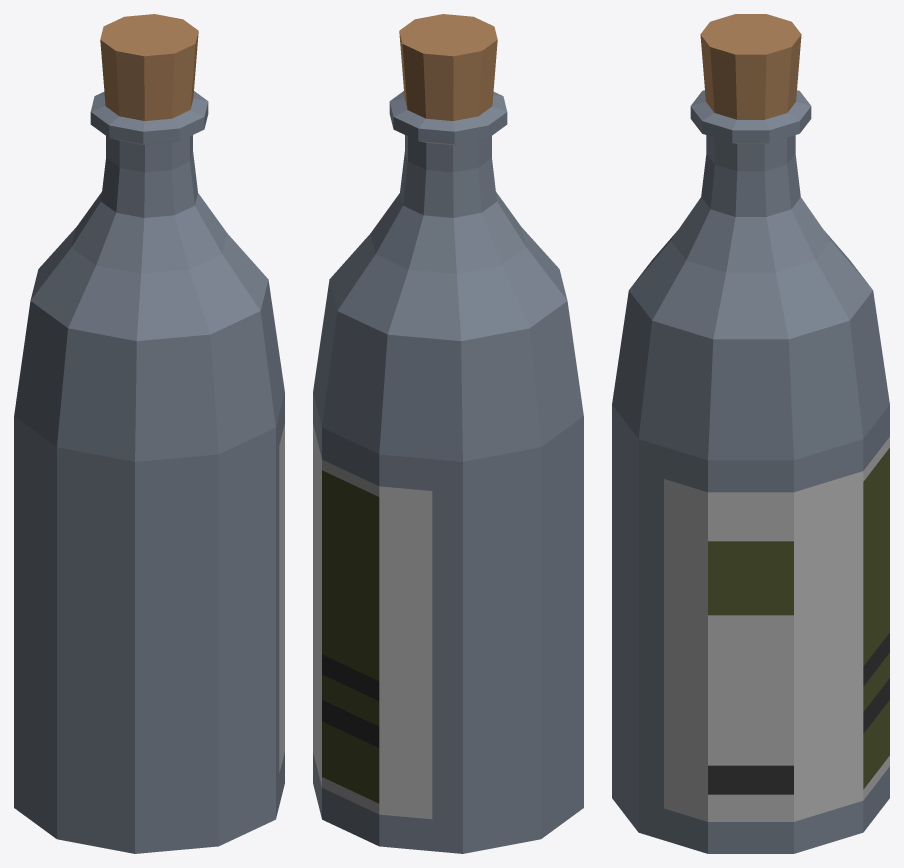
File: SM_bottle_1.gltf
3 renders of one model, left to right at view 1: azimuth 30°, elevation 25°; view 2: azimuth 150°, elevation 25°; view 3: azimuth 270°, elevation 25°, orthographic.
Visible parts, largest first — view 1: SM_bottle_1; view 2: SM_bottle_1; view 3: SM_bottle_1.
Part boxes in pixels (bbox=[...]): SM_bottle_1: bbox=[14, 14, 284, 853]; SM_bottle_1: bbox=[313, 14, 583, 853]; SM_bottle_1: bbox=[612, 14, 889, 853].
Size of the model in its own units: 0.1402 by 0.4468 by 0.1474.
1 material, 1 textured.
